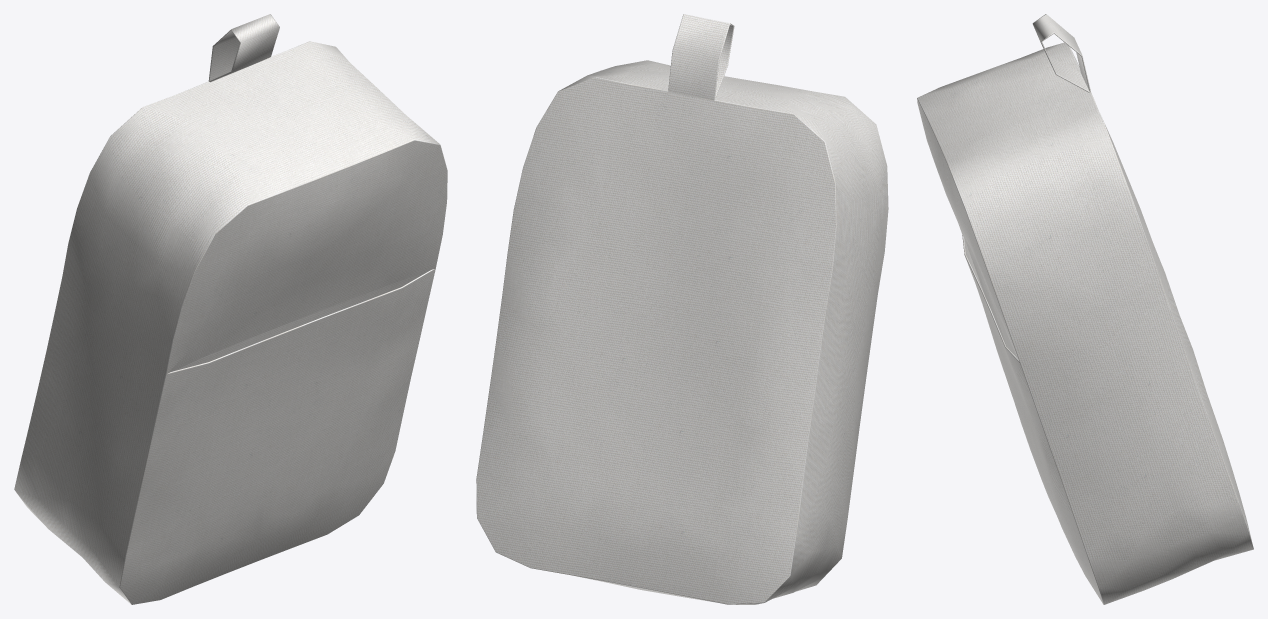
Rendered from straponphone.fbx.
3 renders of one model, left to right at view 1: azimuth 30°, elevation 25°; view 2: azimuth 150°, elevation 25°; view 3: azimuth 270°, elevation 25°, orthographic. The views are drawn at different scales.
Visible parts, largest first — view 1: Pattern2D_116966, Pattern2D_119735, Pattern2D_105376, Pattern2D_120774; view 2: Pattern2D_116967, Pattern2D_116966, Pattern2D_120774; view 3: Pattern2D_116966, Pattern2D_119735, Pattern2D_105376, Pattern2D_116967, Pattern2D_120774.
Boxes of the visible parts, left/top/right/bottom form: Pattern2D_116966: left=14, top=41, right=447, bottom=604; Pattern2D_119735: left=119, top=269, right=435, bottom=604; Pattern2D_105376: left=120, top=140, right=447, bottom=604; Pattern2D_120774: left=208, top=14, right=279, bottom=82; Pattern2D_116967: left=476, top=77, right=836, bottom=604; Pattern2D_116966: left=476, top=60, right=888, bottom=604; Pattern2D_120774: left=668, top=14, right=734, bottom=100; Pattern2D_116966: left=917, top=42, right=1253, bottom=604; Pattern2D_119735: left=962, top=235, right=1104, bottom=604; Pattern2D_105376: left=917, top=98, right=1097, bottom=585; Pattern2D_116967: left=1069, top=46, right=1253, bottom=548; Pattern2D_120774: left=1032, top=14, right=1090, bottom=92.
Bounding box in the file's own units: 11.33 × 18.45 × 10.54.
